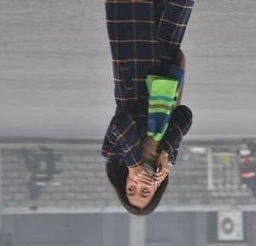person: (102, 2, 192, 217), (17, 145, 45, 214)
